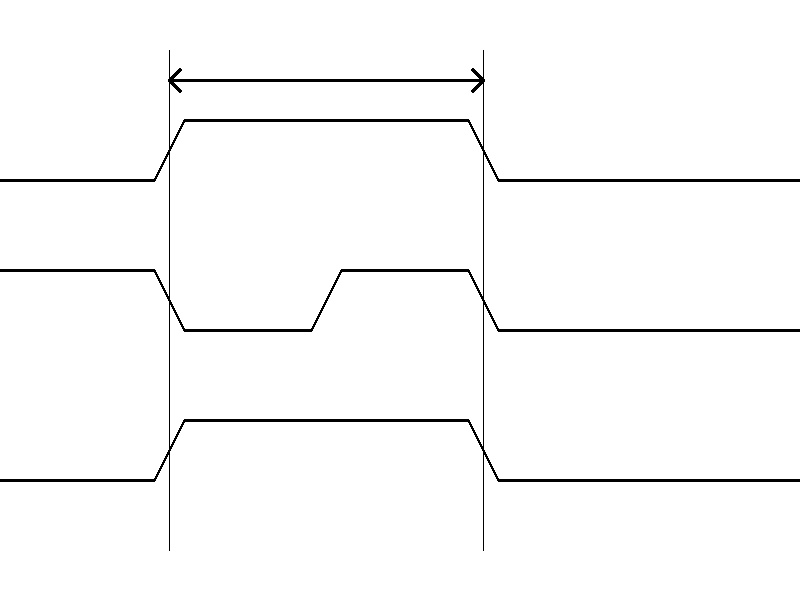double_arrow: (169, 65, 483, 95)
